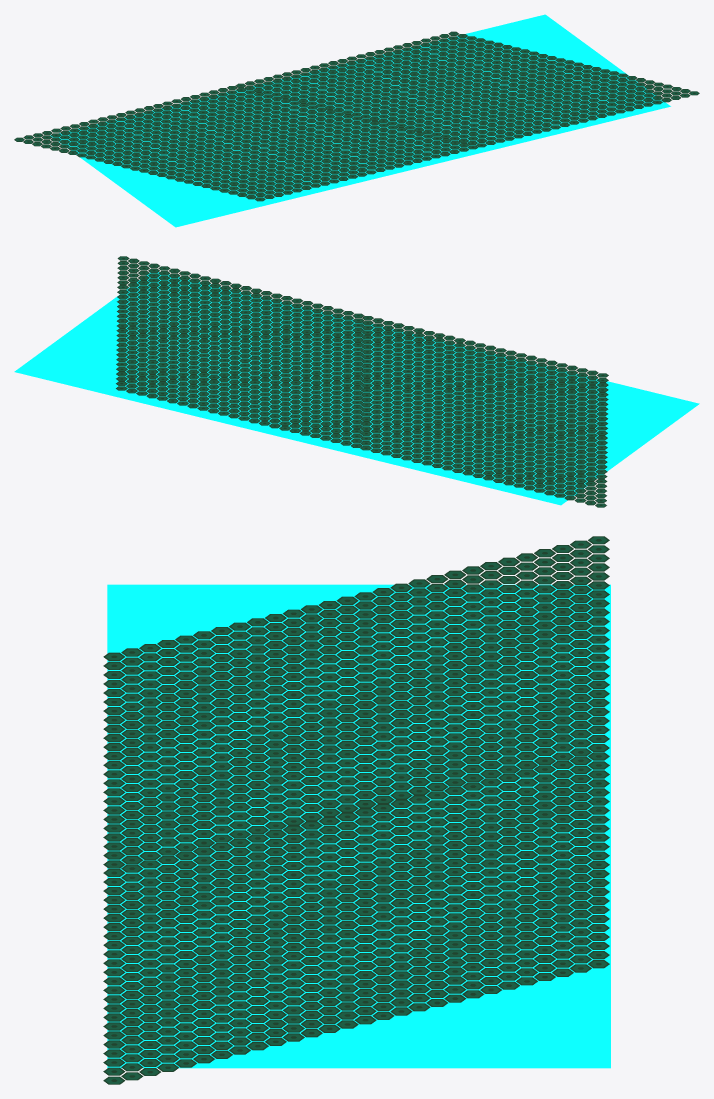
Rendered from BG PLATFORM (1) 1.fbx.
3 views of the same model, one above another, from view 1: azimuth 30°, elevation 25°; view 2: azimuth 150°, elevation 25°; view 3: azimuth 270°, elevation 25° (orthographic). The views are drawn at different scales.
Parts seen in each view (by area): view 1: Circle.002, Plane; view 2: Circle.002, Plane; view 3: Circle.002, Plane.
Boxes of the visible parts, x1=… form: Circle.002: x1=14, y1=31, x2=699, y2=201; Plane: x1=50, y1=14, x2=670, y2=227; Circle.002: x1=116, y1=256, x2=608, y2=507; Plane: x1=14, y1=272, x2=699, y2=505; Circle.002: x1=103, y1=536, x2=609, y2=1084; Plane: x1=107, y1=584, x2=610, y2=1068.
Bounding box in the file's own units: 40167 × 403 × 15710.
